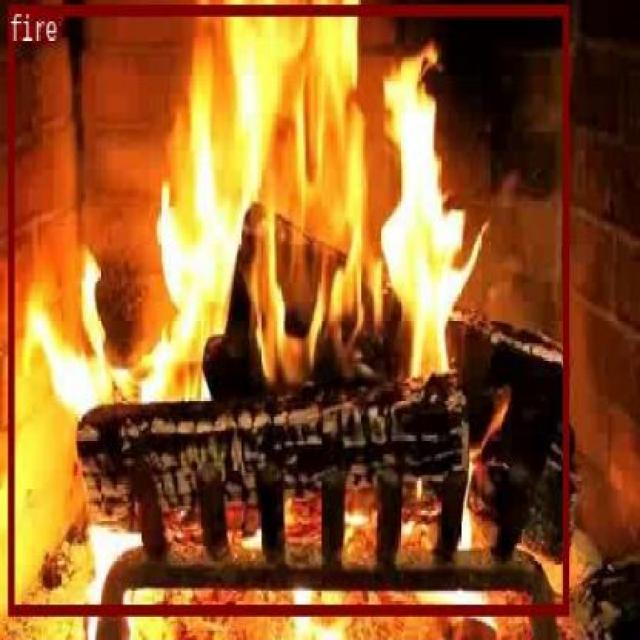Fire: (8, 2, 568, 613)
